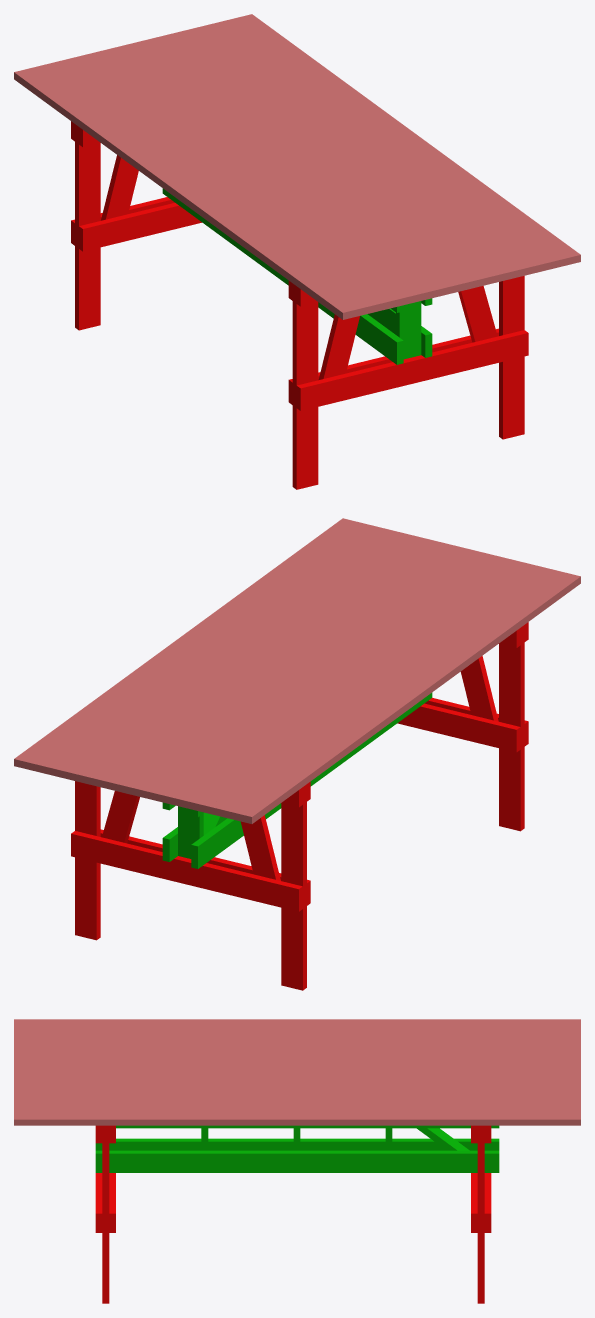
File: result.glb
3 views of the same model, one above another, from view 1: azimuth 30°, elevation 25°; view 2: azimuth 150°, elevation 25°; view 3: azimuth 270°, elevation 25° (orthographic). The views are drawn at different scales.
Parts seen in each view (by area): view 1: 25198101-b9bc-4e52-8ab0-da086240f52e__Box, e6d04844-da1b-456d-bc8c-e379920b3d2c__undefined, b4960181-4a38-4380-9bee-f11880e7984f__undefined, dc8b9a24-5991-49aa-b1a6-6fe66569be97__undefined, a0269e64-63ff-43a0-a909-0d560edd884e__undefined, c94b7654-eec2-4cd6-8c07-685bafcbcc32__undefined, 442a2620-2b44-4778-a7ca-7137238161c9__undefined, 30e3c09c-abd8-4487-8c97-c34f5ac97de6__undefined, 6a7ad7df-87a9-4638-bed1-621858583c98__undefined, e1ba62ed-dae6-4af1-bdb7-a5008925b133__undefined, 0be55129-2bf0-480a-b16d-1bd99ca9d99e__undefined, 842f4f0d-73f7-4b01-b923-927f50533b22__sideH (+11 smaller); view 2: 25198101-b9bc-4e52-8ab0-da086240f52e__Box, a0269e64-63ff-43a0-a909-0d560edd884e__undefined, b4960181-4a38-4380-9bee-f11880e7984f__undefined, dc8b9a24-5991-49aa-b1a6-6fe66569be97__undefined, e6d04844-da1b-456d-bc8c-e379920b3d2c__undefined, c94b7654-eec2-4cd6-8c07-685bafcbcc32__undefined, e1ba62ed-dae6-4af1-bdb7-a5008925b133__undefined, 0be55129-2bf0-480a-b16d-1bd99ca9d99e__undefined, 6a7ad7df-87a9-4638-bed1-621858583c98__undefined, 442a2620-2b44-4778-a7ca-7137238161c9__undefined, 30e3c09c-abd8-4487-8c97-c34f5ac97de6__undefined, 2f21e25c-6fb0-44dc-a61f-fee880b15152__undefined (+10 smaller); view 3: 0be55129-2bf0-480a-b16d-1bd99ca9d99e__undefined, 3734542e-c15a-43c7-975a-9fcbac155424__strutH, 25198101-b9bc-4e52-8ab0-da086240f52e__Box, e6d04844-da1b-456d-bc8c-e379920b3d2c__undefined, c94b7654-eec2-4cd6-8c07-685bafcbcc32__undefined, dc8b9a24-5991-49aa-b1a6-6fe66569be97__undefined, a0269e64-63ff-43a0-a909-0d560edd884e__undefined, 6a7ad7df-87a9-4638-bed1-621858583c98__undefined, e1ba62ed-dae6-4af1-bdb7-a5008925b133__undefined, b4960181-4a38-4380-9bee-f11880e7984f__undefined, 442a2620-2b44-4778-a7ca-7137238161c9__undefined, 30e3c09c-abd8-4487-8c97-c34f5ac97de6__undefined (+9 smaller).
Boxes of the visible parts, <box> form: 25198101-b9bc-4e52-8ab0-da086240f52e__Box: <box>14,67,364,319</box>; e6d04844-da1b-456d-bc8c-e379920b3d2c__undefined: <box>36,61,386,314</box>; b4960181-4a38-4380-9bee-f11880e7984f__undefined: <box>209,19,559,272</box>; dc8b9a24-5991-49aa-b1a6-6fe66569be97__undefined: <box>79,51,429,303</box>; a0269e64-63ff-43a0-a909-0d560edd884e__undefined: <box>144,35,494,288</box>; c94b7654-eec2-4cd6-8c07-685bafcbcc32__undefined: <box>57,56,407,309</box>; 442a2620-2b44-4778-a7ca-7137238161c9__undefined: <box>101,46,450,298</box>; 30e3c09c-abd8-4487-8c97-c34f5ac97de6__undefined: <box>122,40,472,293</box>; 6a7ad7df-87a9-4638-bed1-621858583c98__undefined: <box>166,30,515,282</box>; e1ba62ed-dae6-4af1-bdb7-a5008925b133__undefined: <box>188,24,537,277</box>; 0be55129-2bf0-480a-b16d-1bd99ca9d99e__undefined: <box>231,14,580,266</box>; 842f4f0d-73f7-4b01-b923-927f50533b22__sideH: <box>296,330,528,410</box>; 25198101-b9bc-4e52-8ab0-da086240f52e__Box: <box>230,571,580,823</box>; a0269e64-63ff-43a0-a909-0d560edd884e__undefined: <box>100,539,450,792</box>; b4960181-4a38-4380-9bee-f11880e7984f__undefined: <box>35,523,385,776</box>; dc8b9a24-5991-49aa-b1a6-6fe66569be97__undefined: <box>165,555,515,808</box>; e6d04844-da1b-456d-bc8c-e379920b3d2c__undefined: <box>208,566,558,818</box>; c94b7654-eec2-4cd6-8c07-685bafcbcc32__undefined: <box>187,560,537,813</box>; e1ba62ed-dae6-4af1-bdb7-a5008925b133__undefined: <box>57,529,407,781</box>; 0be55129-2bf0-480a-b16d-1bd99ca9d99e__undefined: <box>14,518,363,771</box>; 6a7ad7df-87a9-4638-bed1-621858583c98__undefined: <box>79,534,428,787</box>; 442a2620-2b44-4778-a7ca-7137238161c9__undefined: <box>144,550,493,802</box>; 30e3c09c-abd8-4487-8c97-c34f5ac97de6__undefined: <box>122,544,471,797</box>; 2f21e25c-6fb0-44dc-a61f-fee880b15152__undefined: <box>71,831,302,911</box>; 0be55129-2bf0-480a-b16d-1bd99ca9d99e__undefined: <box>14,1110,580,1125</box>; 3734542e-c15a-43c7-975a-9fcbac155424__strutH: <box>95,1150,499,1172</box>; 25198101-b9bc-4e52-8ab0-da086240f52e__Box: <box>14,1019,580,1028</box>; e6d04844-da1b-456d-bc8c-e379920b3d2c__undefined: <box>14,1028,580,1037</box>; c94b7654-eec2-4cd6-8c07-685bafcbcc32__undefined: <box>14,1037,580,1046</box>; dc8b9a24-5991-49aa-b1a6-6fe66569be97__undefined: <box>14,1046,580,1055</box>; a0269e64-63ff-43a0-a909-0d560edd884e__undefined: <box>14,1074,580,1083</box>; 6a7ad7df-87a9-4638-bed1-621858583c98__undefined: <box>14,1083,580,1092</box>; e1ba62ed-dae6-4af1-bdb7-a5008925b133__undefined: <box>14,1092,580,1101</box>; b4960181-4a38-4380-9bee-f11880e7984f__undefined: <box>14,1101,580,1110</box>; 442a2620-2b44-4778-a7ca-7137238161c9__undefined: <box>14,1056,580,1064</box>; 30e3c09c-abd8-4487-8c97-c34f5ac97de6__undefined: <box>14,1065,580,1073</box>.
Size of the model in its own units: 836 by 724 by 2000.
